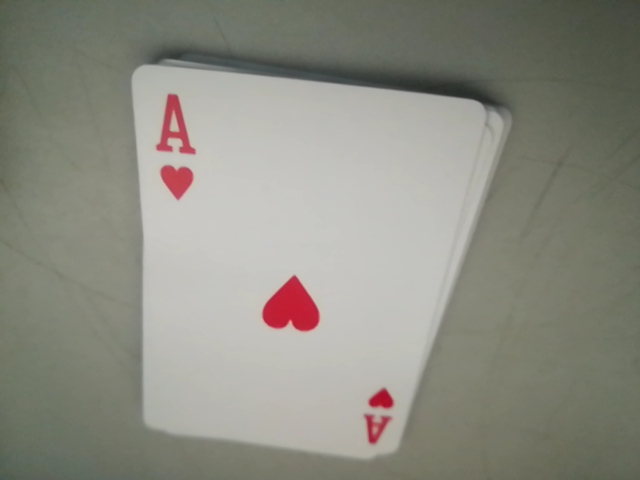hx a: (354, 380, 405, 454)
